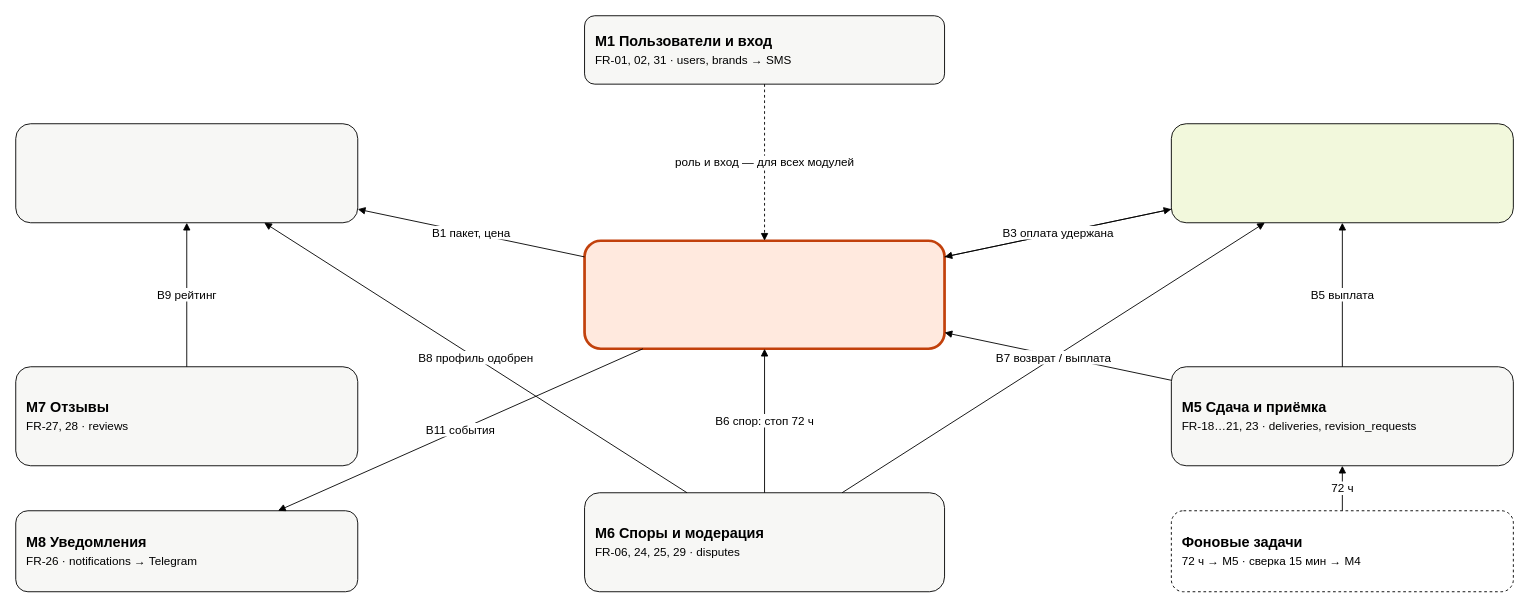
This 1529x608 diagram has some shape labels left out. The shapes that lost their labels are listed below. From the top down, each one's centre as x and y in pixels, then its label:
At pixel 186 173: "М2 Профили и каталог FR-03…05, 07, 08, 30 · профили, видео, пакеты ↔ хранилище".
At pixel 1341 173: "М4 Платежи FR-15…17, 22 · payments, payouts ↔ Payme / Click".
At pixel 764 294: "М3 Брифы и заказы FR-09…14 · briefs, responses, orders, order_items, messages".
